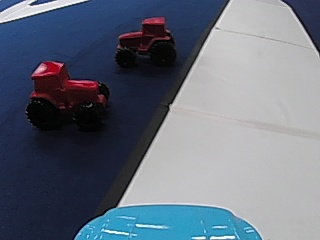tractor: (23, 58, 111, 131), (113, 16, 178, 69)
